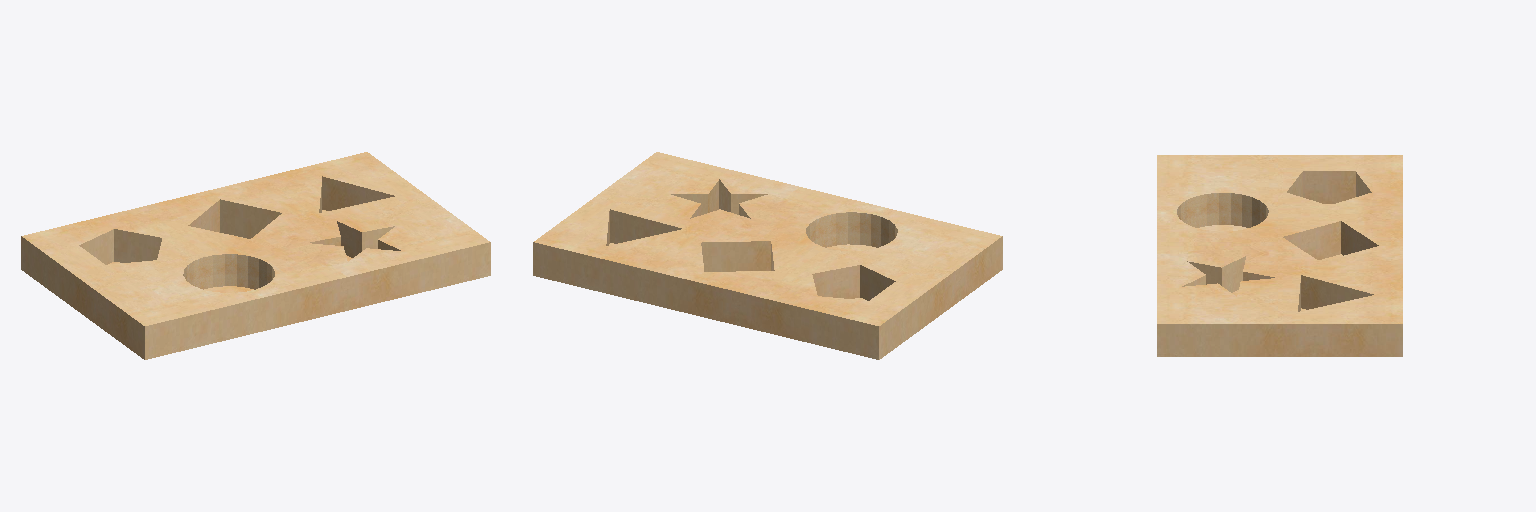
3 views of the same model, side by side, from view 1: azimuth 30°, elevation 25°; view 2: azimuth 150°, elevation 25°; view 3: azimuth 270°, elevation 25° (orthographic).
Visible parts, largest first — view 1: Mesh1 Model; view 2: Mesh1 Model; view 3: Mesh1 Model.
Part boxes in pixels (x1,y1,x2,y2): Mesh1 Model: (21, 152, 490, 359); Mesh1 Model: (533, 152, 1002, 359); Mesh1 Model: (1157, 155, 1402, 356).
Size of the model in its own units: 1.08 by 0.1008 by 0.6688.
1 materials, 1 textured.